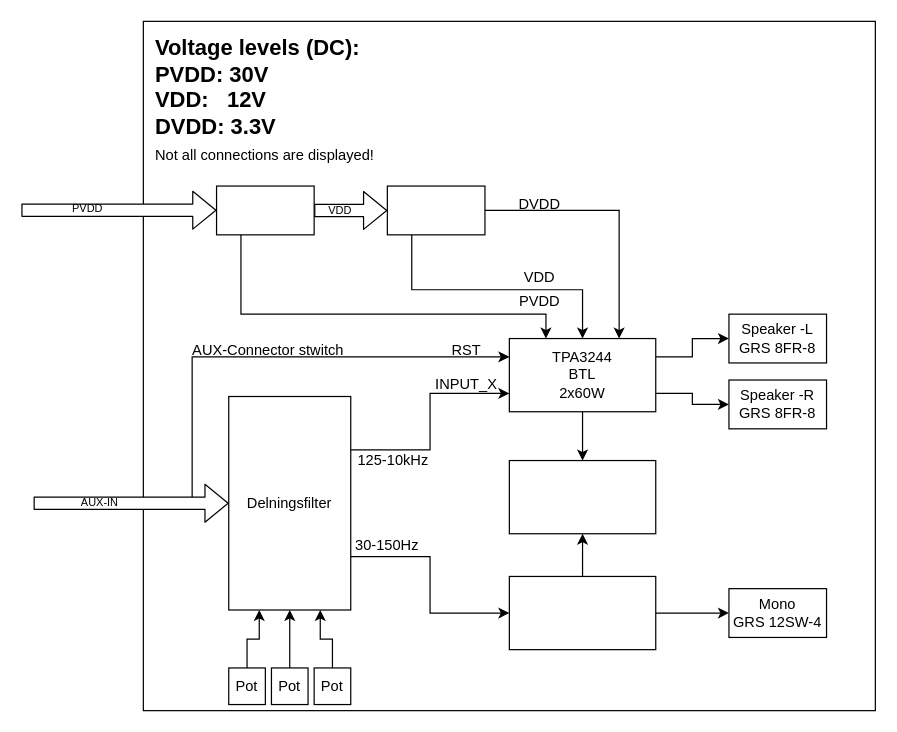
Some shapes in this 897 by 732 pixel diagram are drawn without their labels. The shapes that lost their labels are listed below. From the top down, each one's centre as x and y in pixels, then its label:
the point at 264,210: 30V -> 12V
the point at 435,210: 12V -> 3.3V
the point at 582,496: Heatsink Fan CLP_OTW
the point at 582,612: TPA3251 PBTL 1x140W
